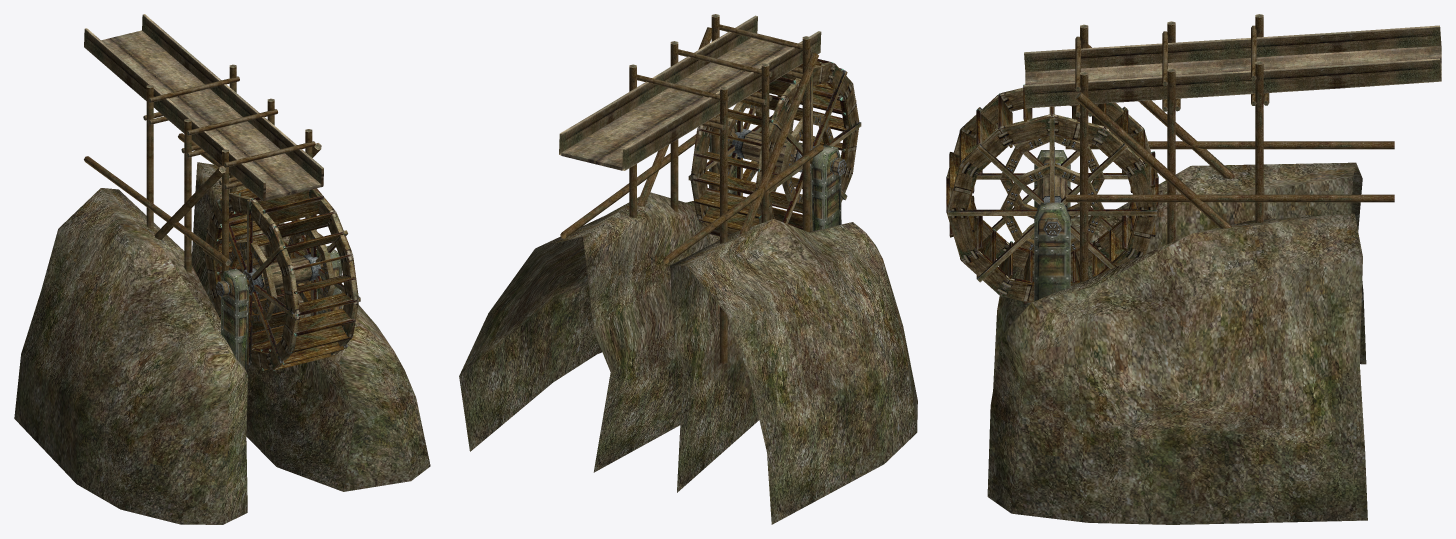
File: general_obj_watermill.fbx
3 renders of one model, left to right at view 1: azimuth 30°, elevation 25°; view 2: azimuth 150°, elevation 25°; view 3: azimuth 270°, elevation 25°, orthographic. The views are drawn at different scales.
Visible parts, largest first — view 1: general_obj_watermill2, general_obj_watermill1; view 2: general_obj_watermill2, general_obj_watermill1; view 3: general_obj_watermill2, general_obj_watermill1.
Part boxes in pixels (x1=…): general_obj_watermill2: x1=14, y1=162, x2=430, y2=524; general_obj_watermill1: x1=84, y1=14, x2=360, y2=370; general_obj_watermill2: x1=459, y1=123, x2=917, y2=524; general_obj_watermill1: x1=559, y1=14, x2=861, y2=363; general_obj_watermill2: x1=987, y1=150, x2=1367, y2=524; general_obj_watermill1: x1=946, y1=14, x2=1441, y2=304.
Bounding box in the file's own units: 19.15 × 20.54 × 23.05.
